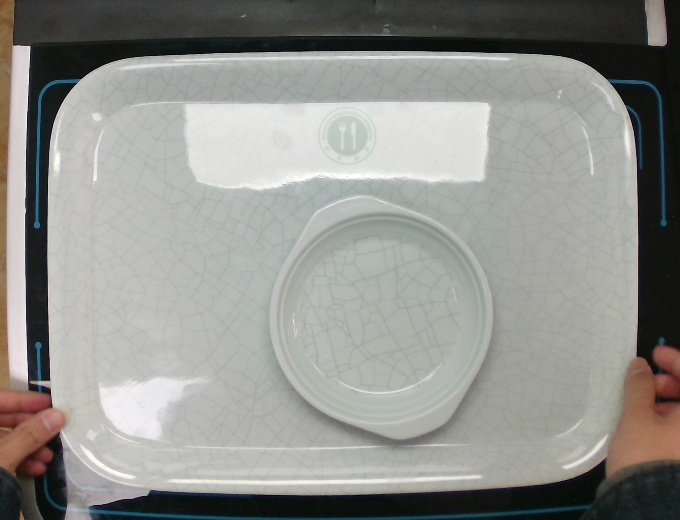JYsf-Shuang_Er_Pan: (268, 188, 497, 442)
